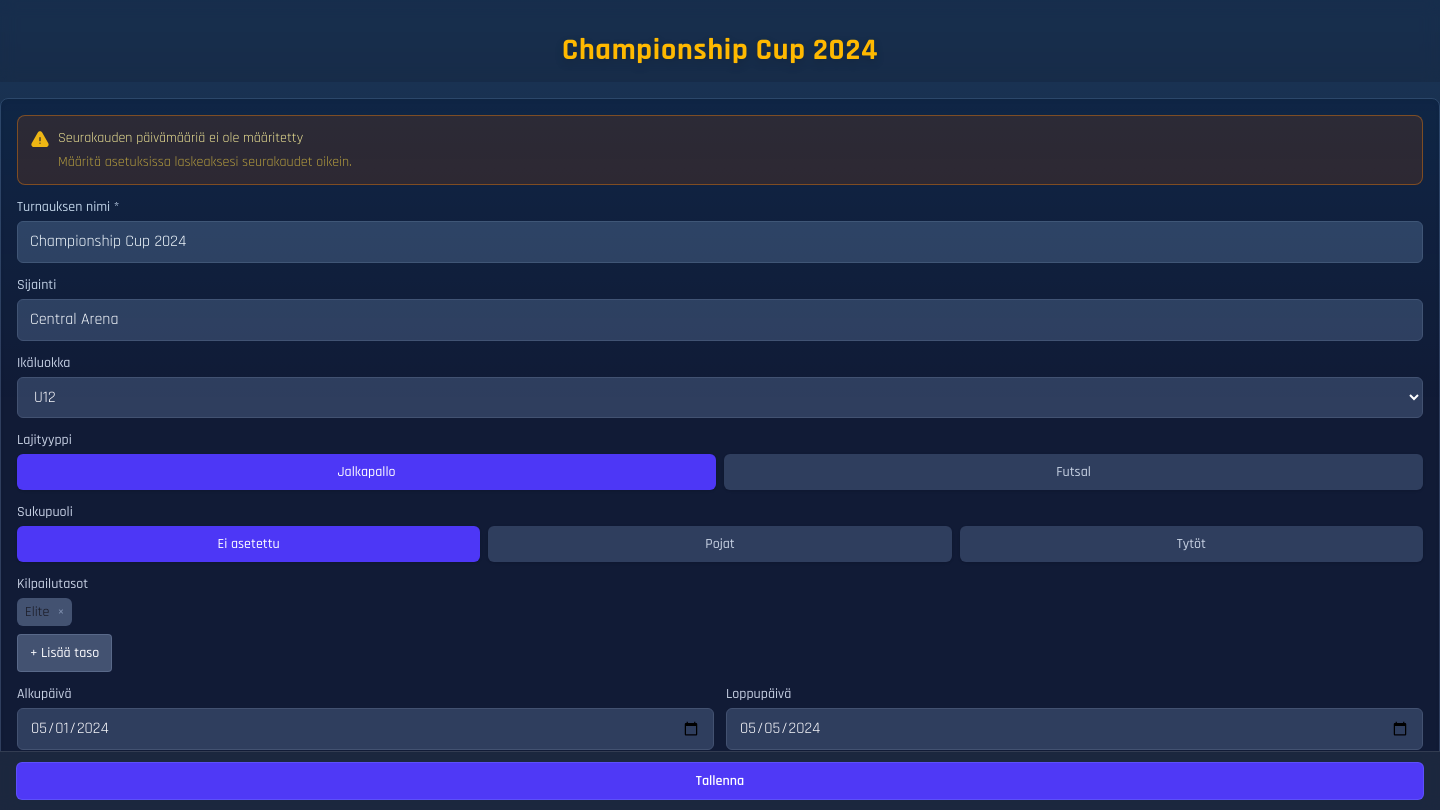
Test: TournamentDetailsModal › disables Save button when name is empty
The width and height of the screenshot is (1440, 810).
Clear the field showing "Championship Cup 2024" below "Turnauksen nimi" at (720, 242), box 17,220 -> 1423,262
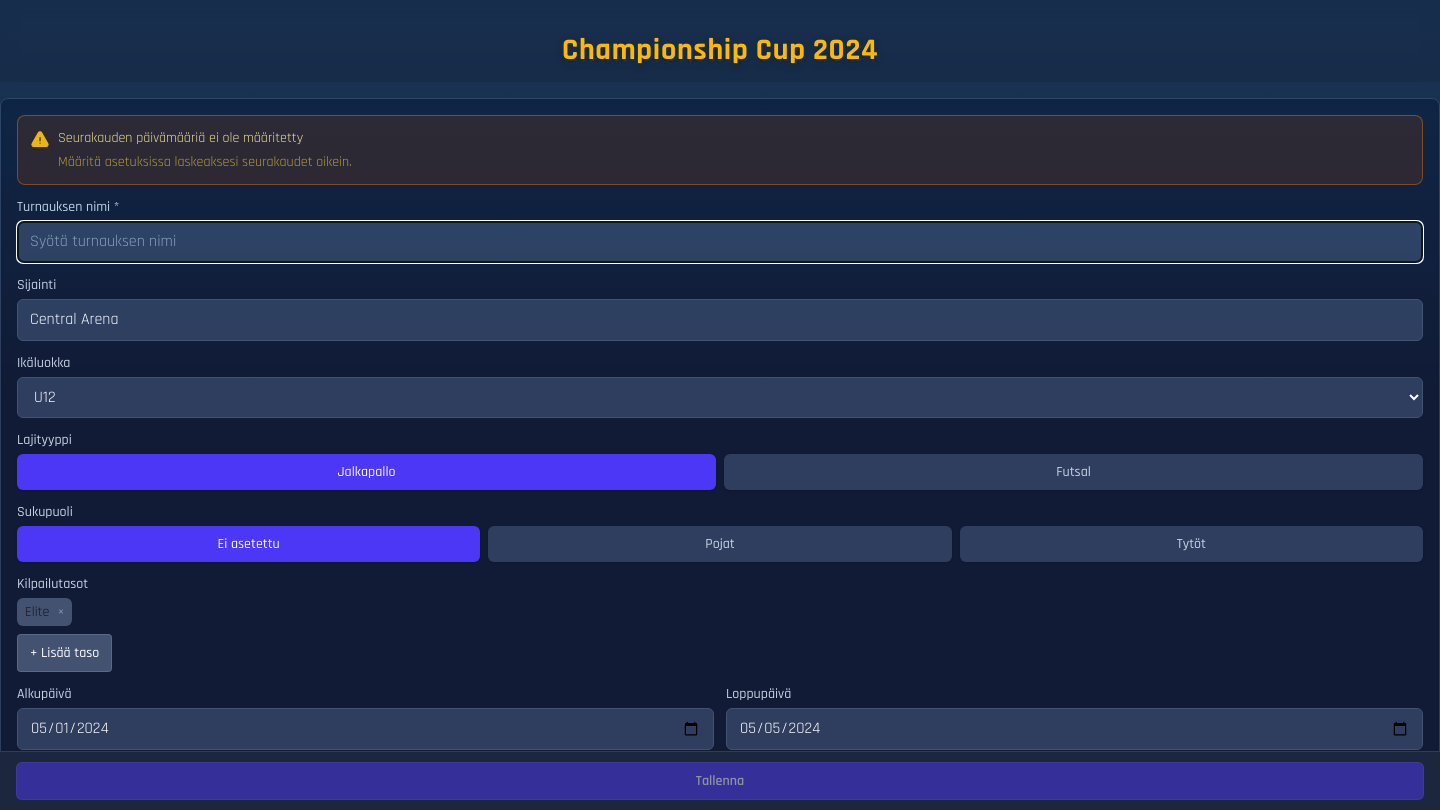
Expected: the button "Tallenna" is disabled, 16,762 -> 1424,800
